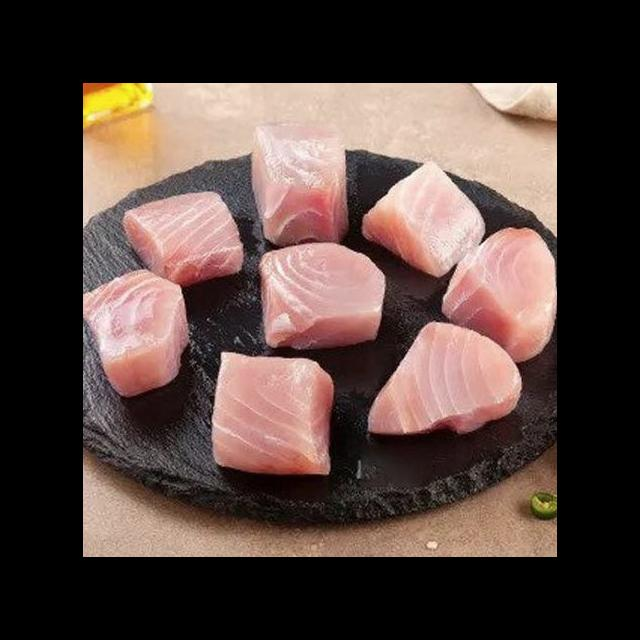fish: (251, 239, 391, 353)
